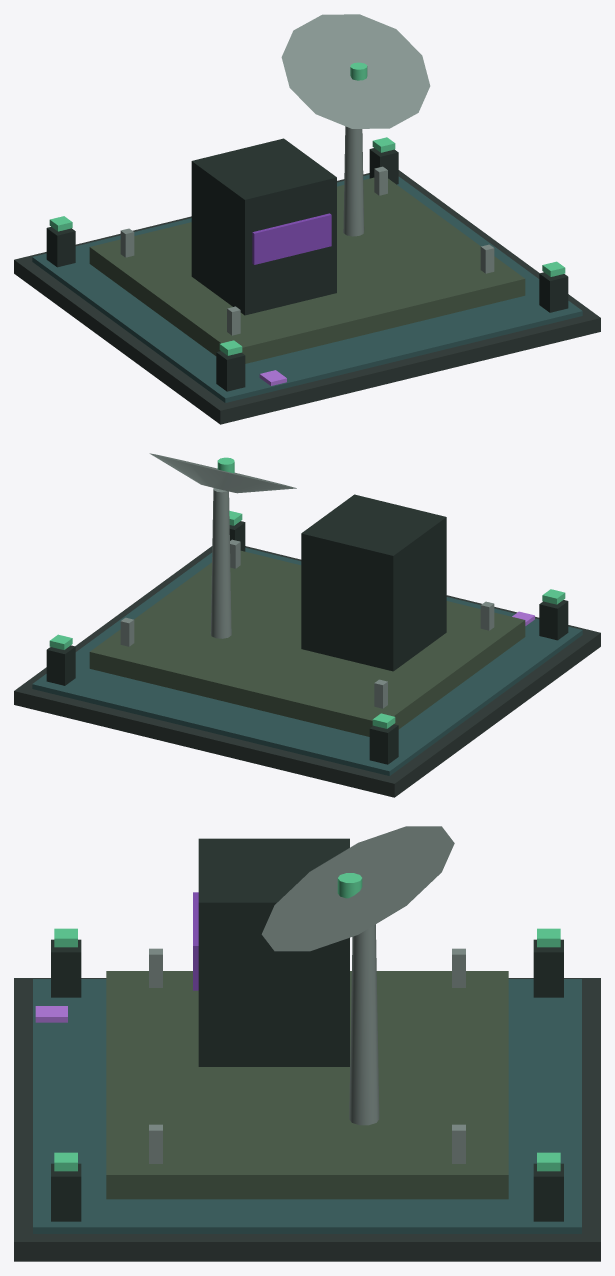
The model's file is signal_l01.glb.
3 renders of one model, top to bottom at view 1: azimuth 30°, elevation 25°; view 2: azimuth 150°, elevation 25°; view 3: azimuth 270°, elevation 25°, orthographic. The views are drawn at different scales.
Visible parts, largest first — view 1: signal_l01; view 2: signal_l01; view 3: signal_l01.
Part boxes in pixels (x1,y1,x2,y2): signal_l01: (14, 14, 600, 424); signal_l01: (14, 453, 600, 797); signal_l01: (14, 826, 600, 1261).
Bounding box in the file's own units: 6.6 × 3.88 × 6.2.
